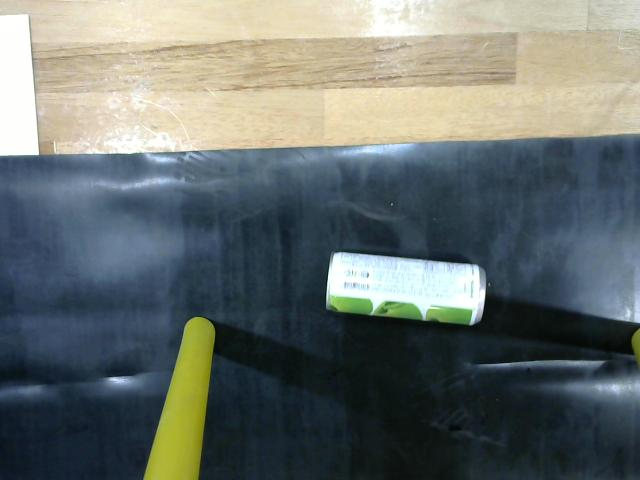can: (324, 243, 488, 332)
